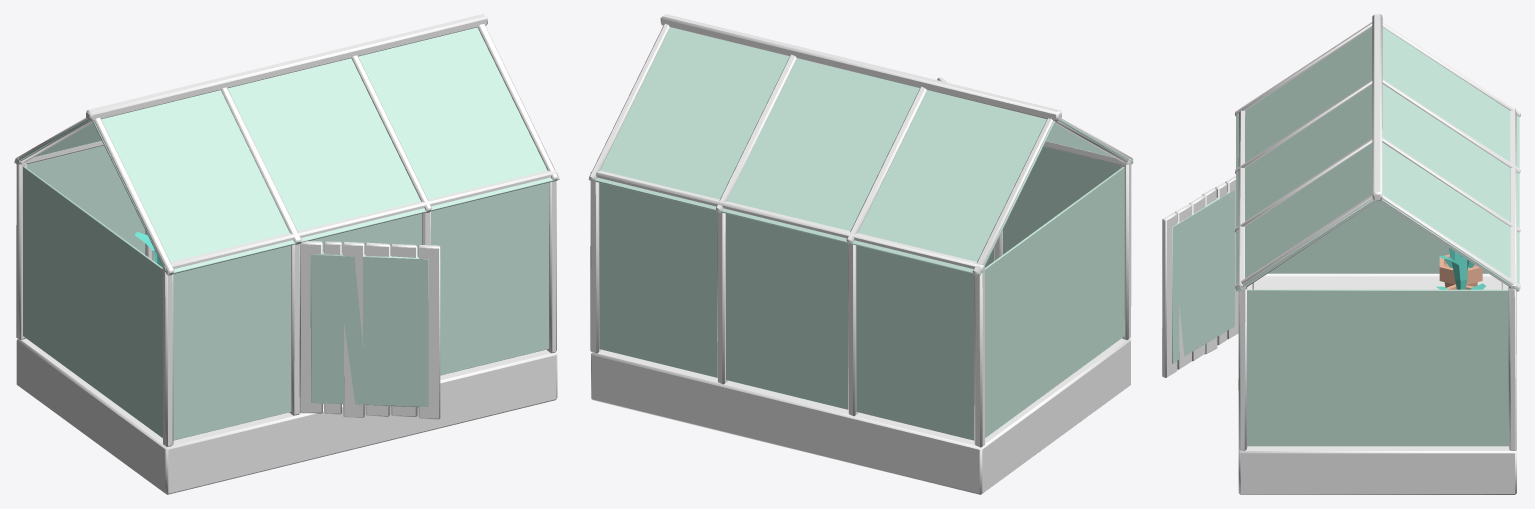
The model's file is gewaechshaus.glb.
3 views of the same model, side by side, from view 1: azimuth 30°, elevation 25°; view 2: azimuth 150°, elevation 25°; view 3: azimuth 270°, elevation 25° (orthographic). The views are drawn at different scales.
Parts seen in each view (by area): view 1: gewaechshaus_netz, Tuer_netz; view 2: gewaechshaus_netz; view 3: gewaechshaus_netz, Tuer_netz, pot_small2_netz, crops_leafsStageB2_netz.
Boxes of the visible parts, x1=… form: gewaechshaus_netz: x1=14, y1=14, x2=559, y2=494; Tuer_netz: x1=299, y1=241, x2=440, y2=419; gewaechshaus_netz: x1=588, y1=14, x2=1133, y2=494; gewaechshaus_netz: x1=1234, y1=14, x2=1520, y2=494; Tuer_netz: x1=1162, y1=175, x2=1238, y2=377; pot_small2_netz: x1=1439, y1=254, x2=1482, y2=287; crops_leafsStageB2_netz: x1=1438, y1=252, x2=1469, y2=289.
Size of what is drawn, in the model's own units: 3.05 by 2.42 by 2.58.
